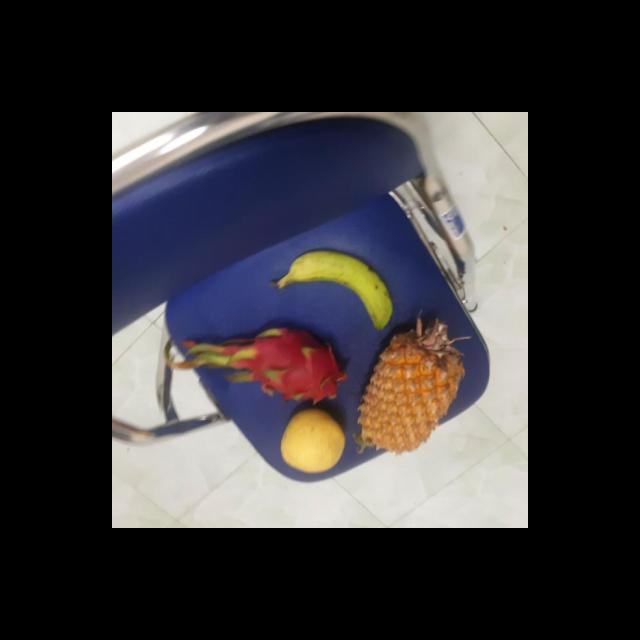banana: (275, 251, 388, 332)
pear: (276, 406, 346, 474)
pineapple: (352, 310, 463, 456)
pitaya: (239, 324, 342, 404)
